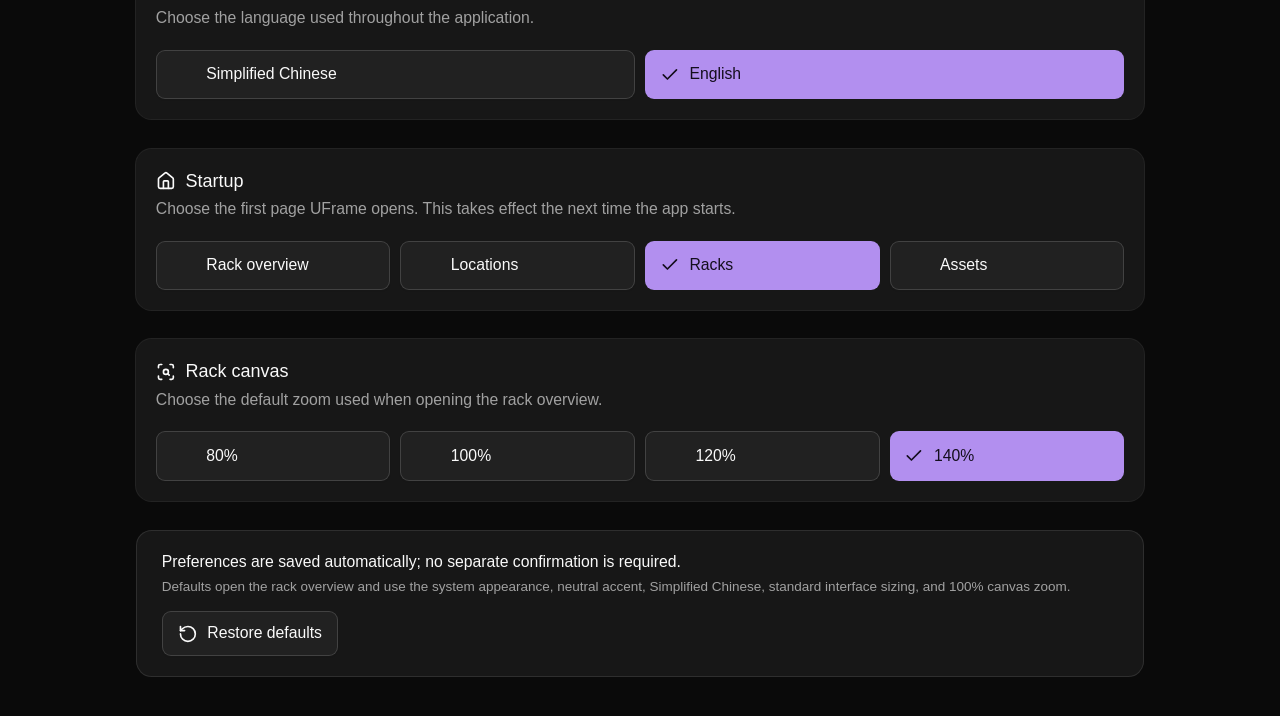
Test: SettingsPage › restores every preference to the documented defaults
The image size is (1280, 716).
(page scrolled)
Click the button "Restore defaults" at (250, 634), box [162, 611, 338, 656]
(page scrolled)
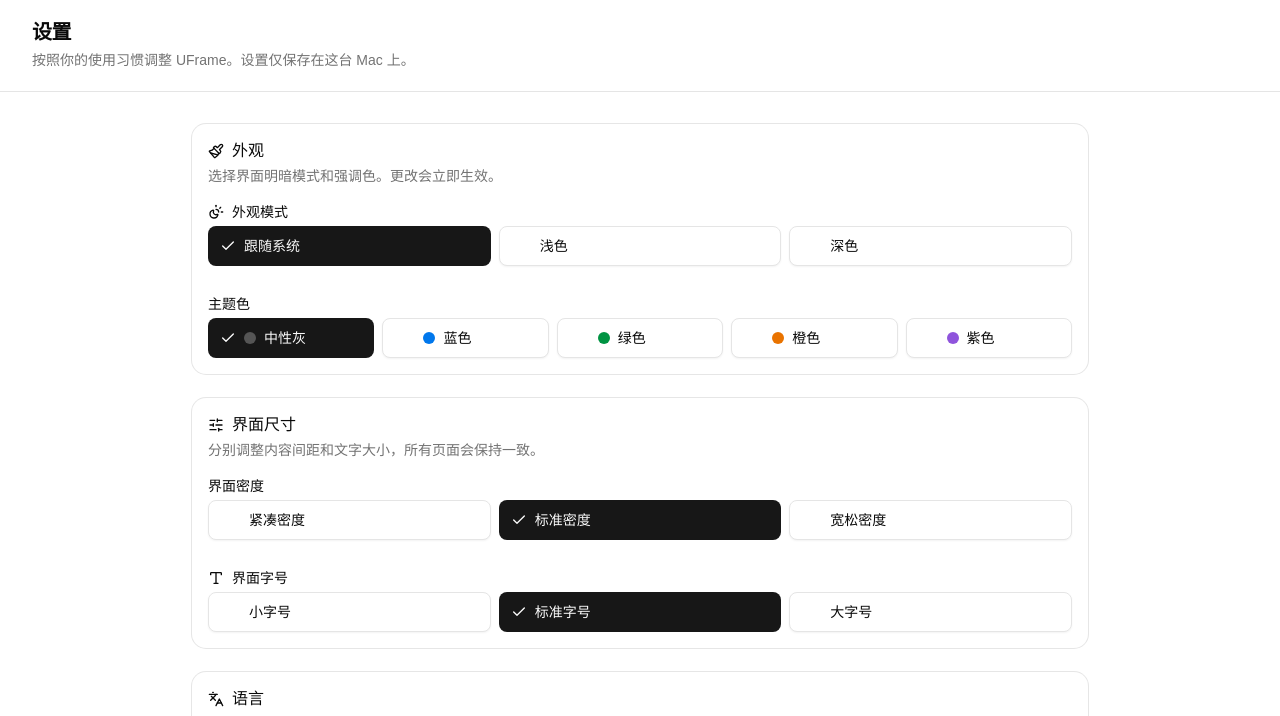
Expected: the heading "设置" is shown, [32, 20, 71, 42]
